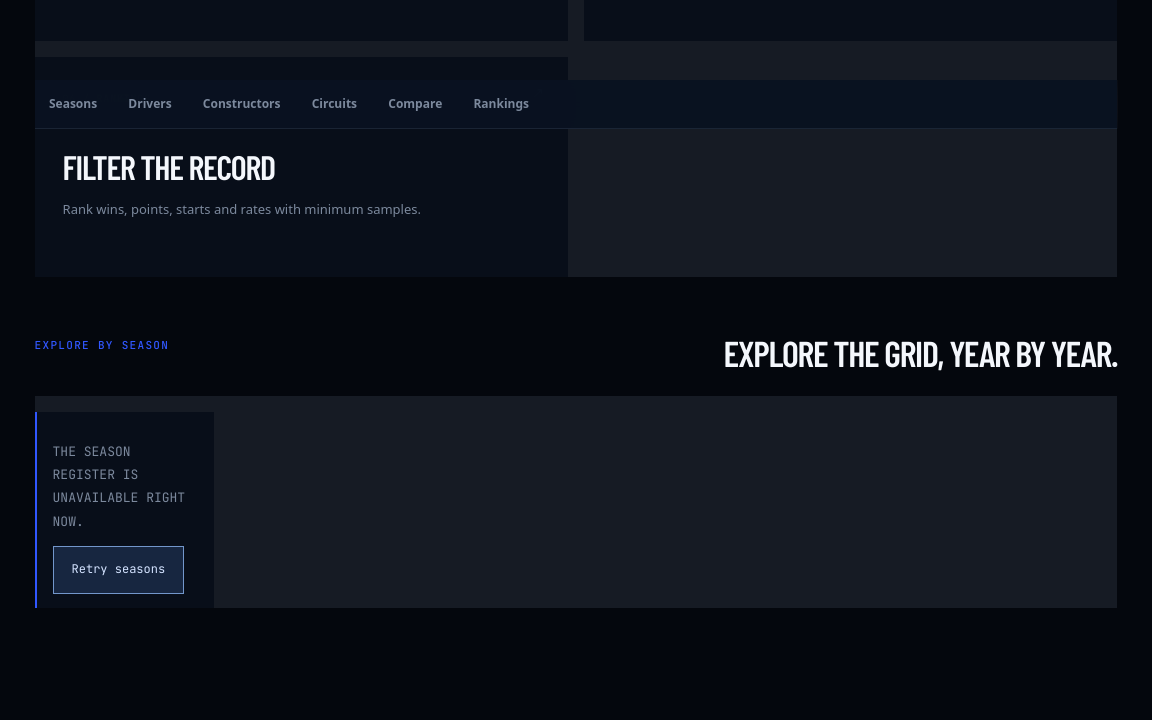
it: recovers a failed season register instead of loading forever
This screenshot has width=1152, height=720.
(page scrolled)
Click the button "Retry seasons" at point(118, 570), box [52,546,184,594]
(page scrolled)
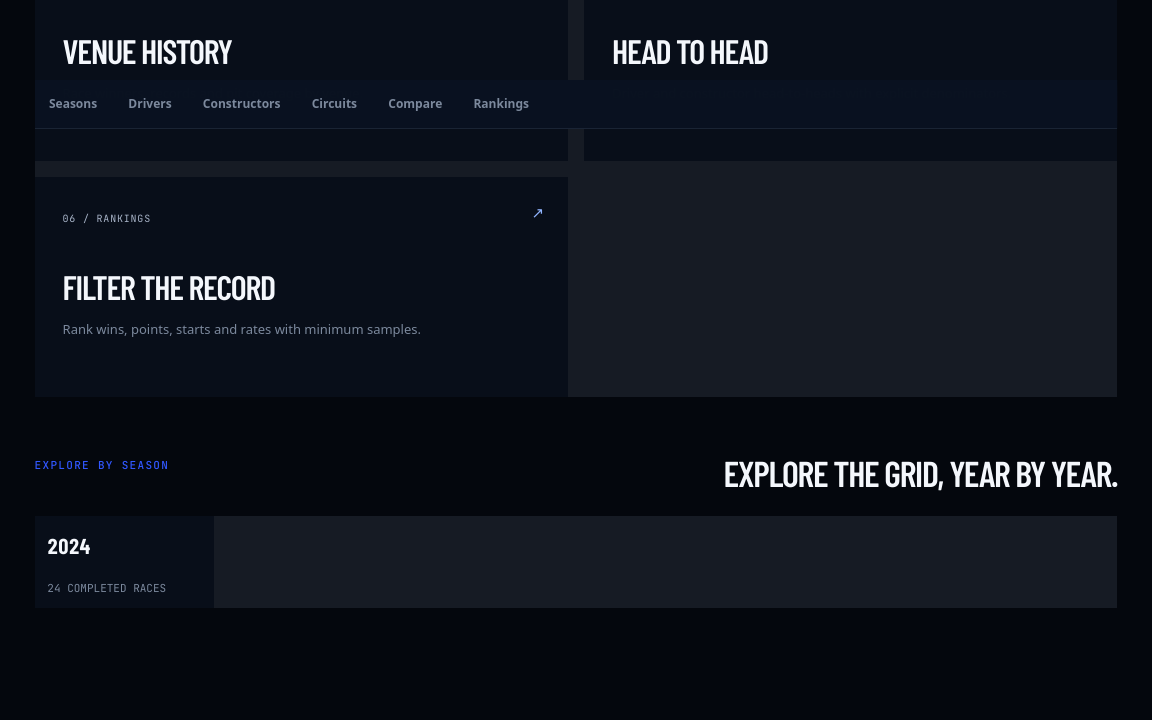
Expected: the message "The season register is unavailable right now. Retry seasons" is gone
